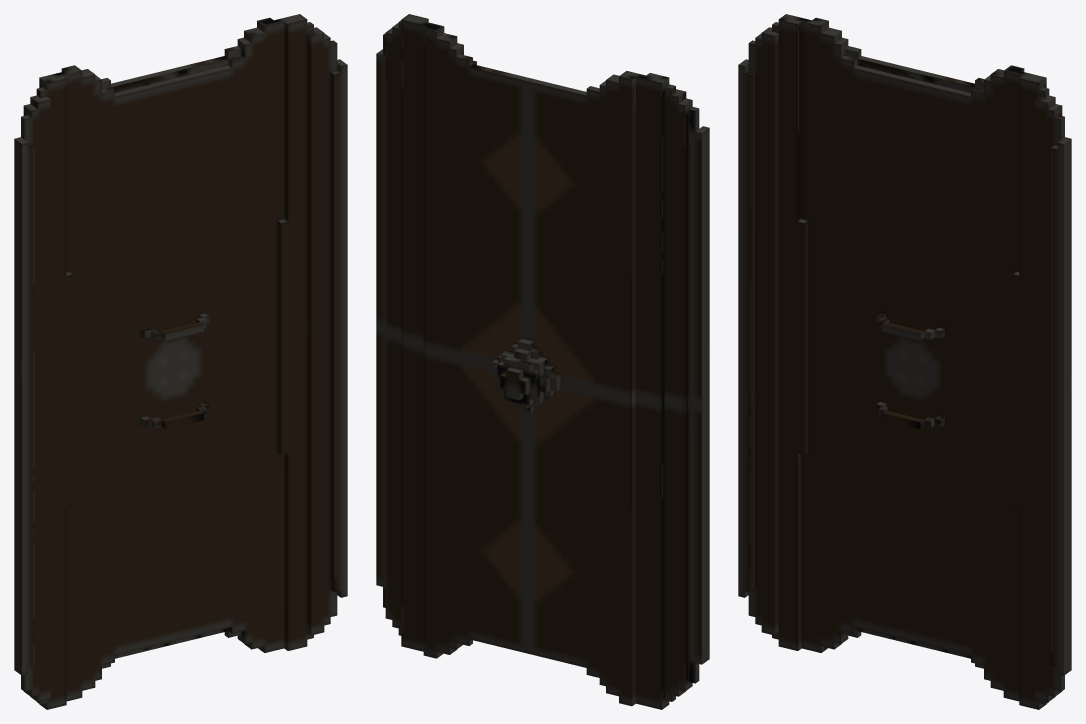
The model's file is TowerShield_Wooden_Diamond_Brown_Full.obj.
3 views of the same model, side by side, from view 1: azimuth 30°, elevation 25°; view 2: azimuth 150°, elevation 25°; view 3: azimuth 330°, elevation 25° (orthographic).
Parts seen in each view (by area): view 1: TowerShield_Wooden_Diamond_Brown_Full_TowerShield_Wooden_Diamond; view 2: TowerShield_Wooden_Diamond_Brown_Full_TowerShield_Wooden_Diamond; view 3: TowerShield_Wooden_Diamond_Brown_Full_TowerShield_Wooden_Diamond.
Part boxes in pixels (x1,y1,x2,y2): TowerShield_Wooden_Diamond_Brown_Full_TowerShield_Wooden_Diamond: (14, 14, 347, 709); TowerShield_Wooden_Diamond_Brown_Full_TowerShield_Wooden_Diamond: (376, 14, 709, 709); TowerShield_Wooden_Diamond_Brown_Full_TowerShield_Wooden_Diamond: (738, 14, 1071, 709).
Size of the model in its own units: 0.5 by 0.92 by 0.09.
